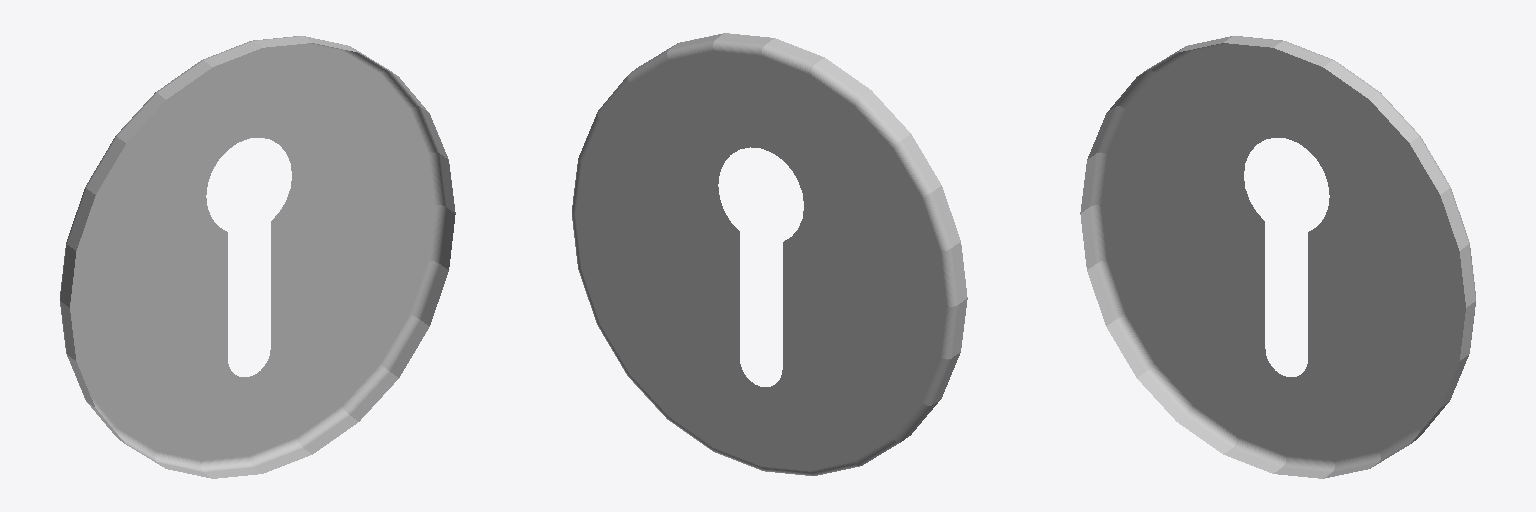
Rendered from original-11.obj.
3 renders of one model, left to right at view 1: azimuth 30°, elevation 25°; view 2: azimuth 150°, elevation 25°; view 3: azimuth 330°, elevation 25°, orthographic.
Visible parts, largest first — view 1: #ID48; view 2: #ID48; view 3: #ID48.
Part boxes in pixels (bbox=[...]): #ID48: bbox=[60, 36, 455, 478]; #ID48: bbox=[572, 33, 967, 475]; #ID48: bbox=[1080, 36, 1475, 478].
Size of the model in its own units: 0.0394 by 0.0416 by 0.0024.